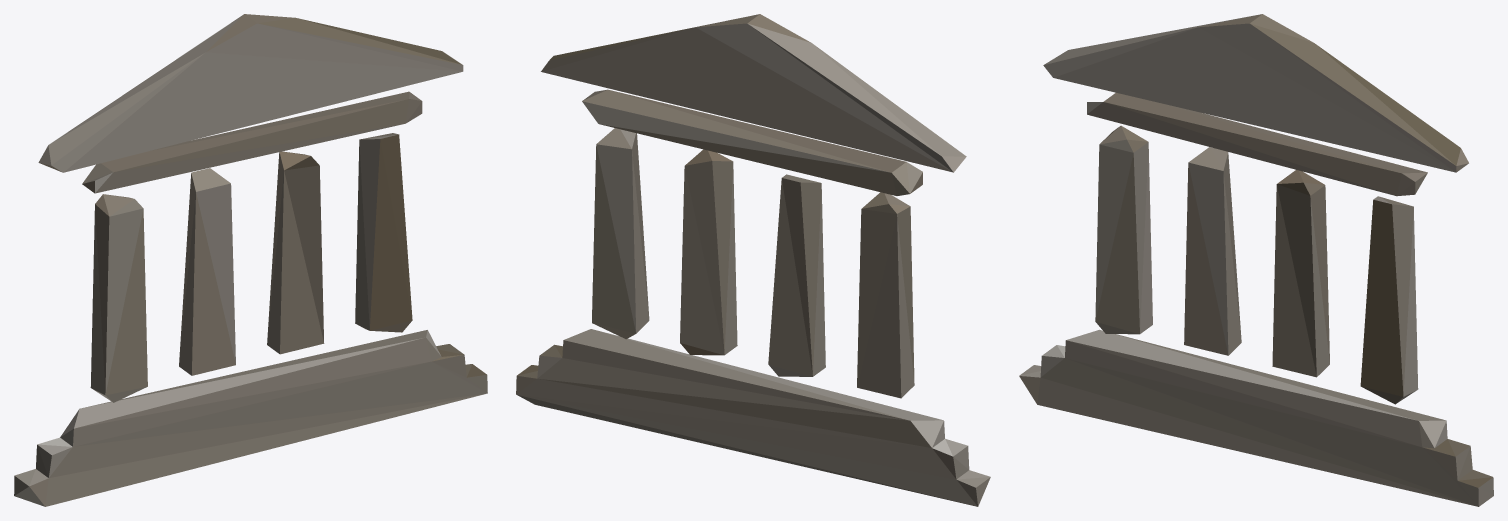
File: Symbol-Bank.fbx
3 renders of one model, left to right at view 1: azimuth 30°, elevation 25°; view 2: azimuth 150°, elevation 25°; view 3: azimuth 330°, elevation 25°, orthographic.
Parts seen in each view (by area): view 1: Symbol-Bank; view 2: Symbol-Bank; view 3: Symbol-Bank.
Boxes of the visible parts, x1,y1,x2,y2 form: Symbol-Bank: (14,14,487,506); Symbol-Bank: (516,14,990,506); Symbol-Bank: (1019,14,1493,506).
Size of the model in its own units: 102 by 91.18 by 5.81.
